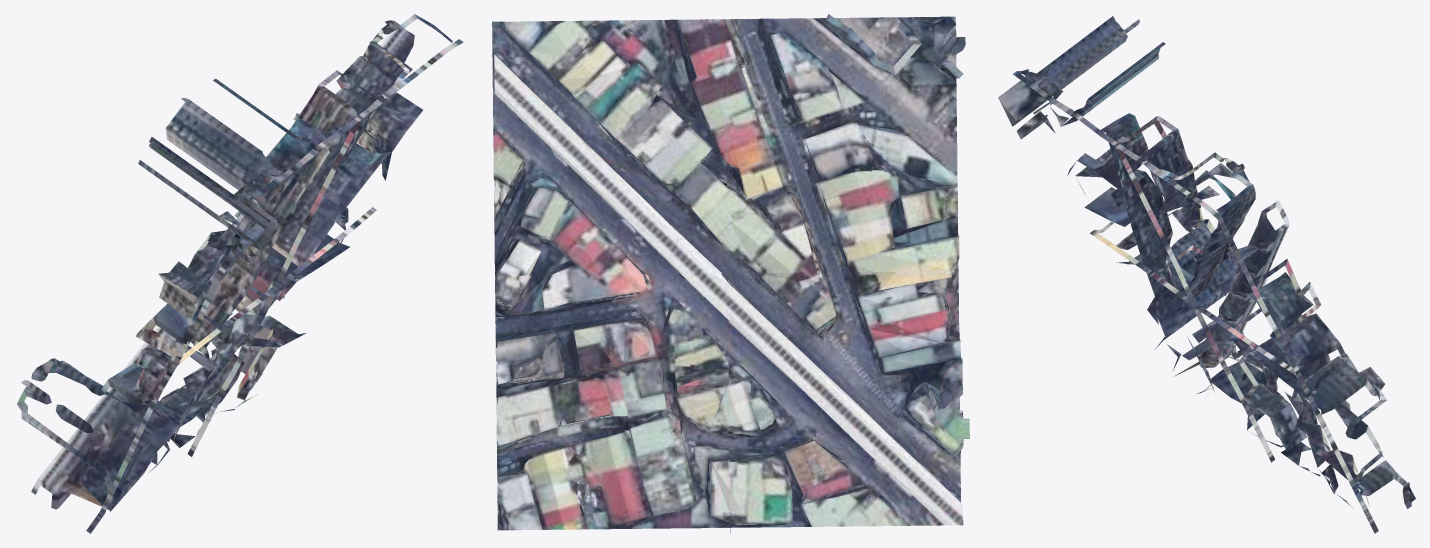
3 renders of one model, left to right at view 1: azimuth 30°, elevation 25°; view 2: azimuth 150°, elevation 25°; view 3: azimuth 270°, elevation 25°, orthographic. The views are drawn at different scales.
Bounding box in the file's own units: 168 × 157 × 146.
Materials: 2 (2 with a texture image).
